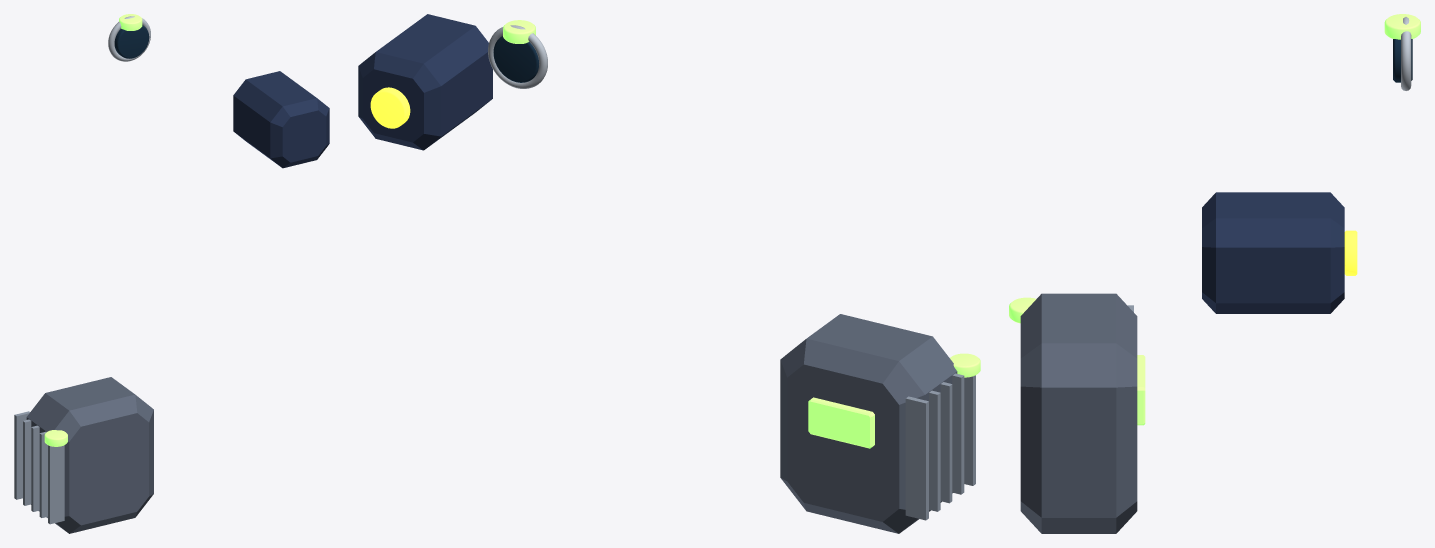
Rendered from tower_detector_analysis_s5.glb.
3 renders of one model, left to right at view 1: azimuth 30°, elevation 25°; view 2: azimuth 150°, elevation 25°; view 3: azimuth 270°, elevation 25°, orthographic. The views are drawn at different scales.
Parts seen in each view (by area): view 1: detector_recorder, detector_mark_projector, detector_recorder_fins, detector_analysis_lens, detector_analysis_lens_ring; view 2: detector_recorder, detector_mark_projector, detector_recorder_fins, detector_recorder_face, detector_analysis_lens, detector_mark_lens, detector_analysis_lens_ring; view 3: detector_recorder, detector_mark_projector, detector_up_analysis_l3_stud, detector_analysis_lens_ring, detector_recorder_face, detector_mark_lens.
Part boxes in pixels (x1,y1,x2,y2): detector_recorder: (26,377,153,533); detector_mark_projector: (233,71,329,168); detector_recorder_fins: (14,411,64,524); detector_analysis_lens: (114,25,149,58); detector_analysis_lens_ring: (108,16,150,61); detector_recorder: (780,314,957,533); detector_mark_projector: (358,14,492,150); detector_recorder_fins: (905,373,975,520); detector_recorder_face: (808,397,874,448); detector_analysis_lens: (493,36,538,82); detector_mark_lens: (370,87,410,128); detector_analysis_lens_ring: (488,25,547,88); detector_recorder: (1020,293,1137,533); detector_mark_projector: (1202,192,1344,313); detector_up_analysis_l3_stud: (1384,14,1420,39); detector_analysis_lens_ring: (1401,17,1411,90); detector_recorder_face: (1137,355,1145,425); detector_mark_lens: (1344,230,1357,275).
Bounding box in the file's own units: 0.9496 × 1.02 × 0.636.
